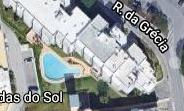pool: (40, 51, 82, 83)
